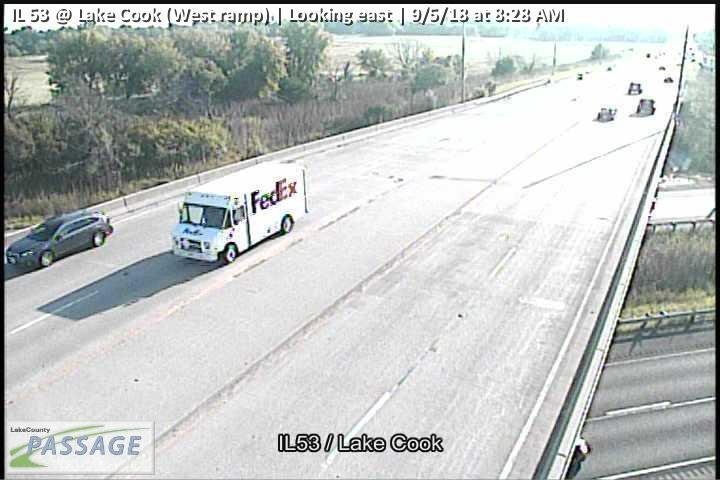Sedan: (5, 212, 114, 270)
Truck: (168, 160, 313, 265)
